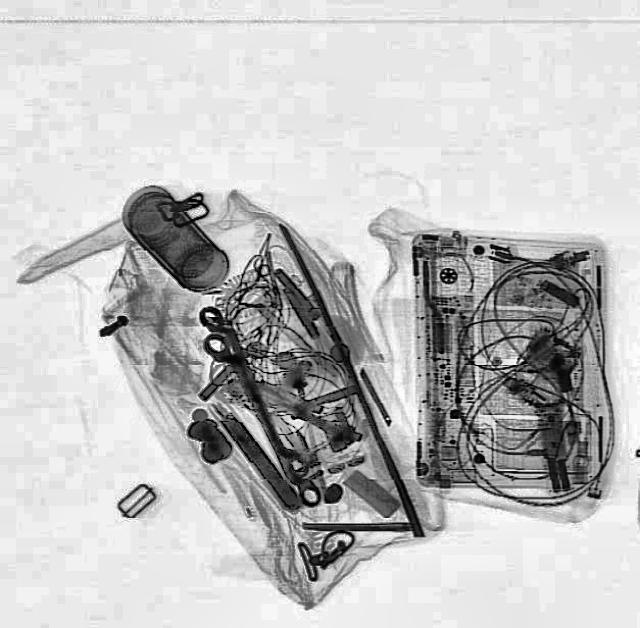Wrench: (190, 302, 326, 510)
